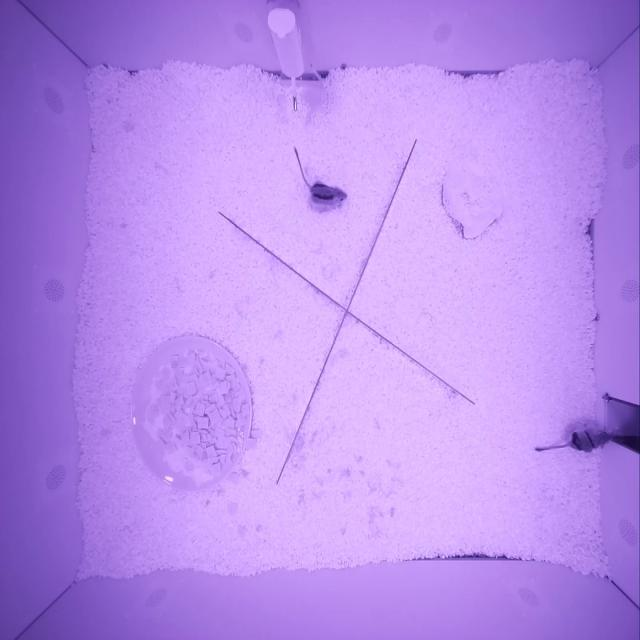pup_h_stripe: (569, 429, 613, 453)
pup_v_stripe: (309, 184, 348, 205)
